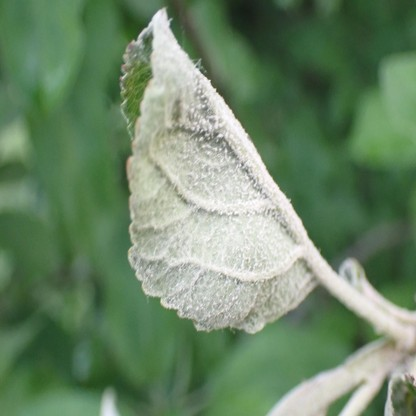powder: (119, 7, 318, 336)
